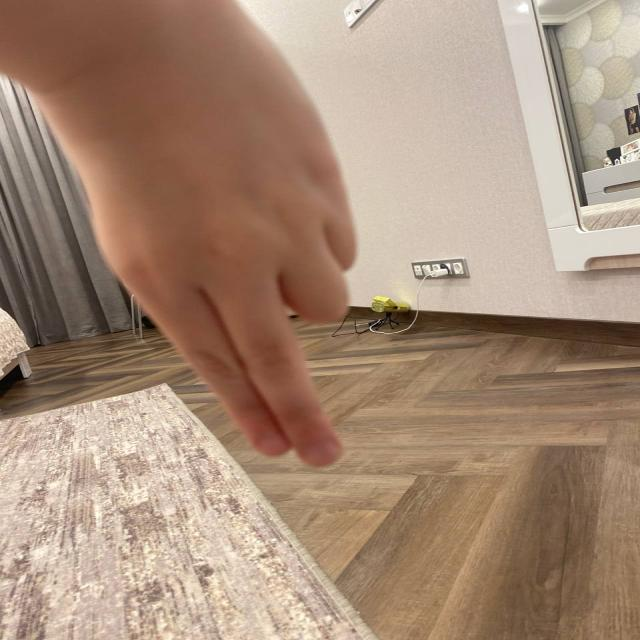p: (49, 62, 400, 493)
